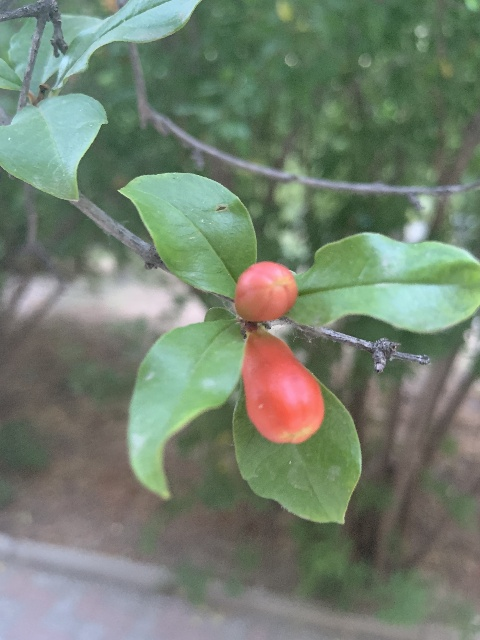bud: (241, 328, 324, 444), (234, 261, 297, 323)
